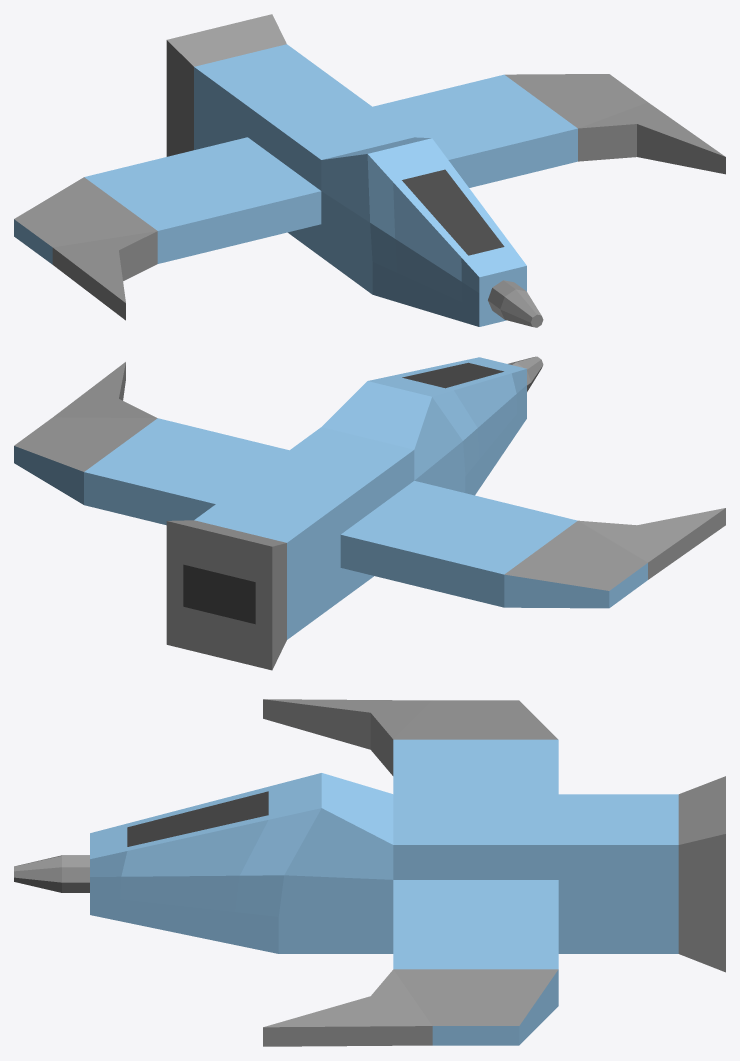
File: Spaceship 1.glb
3 renders of one model, top to bottom at view 1: azimuth 30°, elevation 25°; view 2: azimuth 150°, elevation 25°; view 3: azimuth 270°, elevation 25°, orthographic. The views are drawn at different scales.
Visible parts, largest first — view 1: Ship, Gun; view 2: Ship; view 3: Ship, Gun.
Part boxes in pixels (x1,y1,x2,y2): Ship: [14, 14, 725, 326]; Gun: [488, 280, 543, 327]; Ship: [14, 357, 725, 670]; Ship: [90, 699, 725, 1046]; Gun: [14, 855, 89, 892].
Size of the model in its own units: 12.91 by 2.81 by 11.84.
